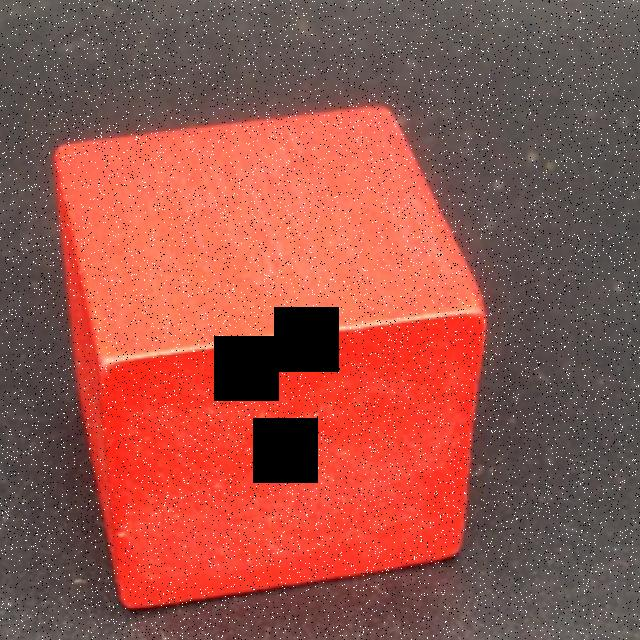red cube: (52, 106, 488, 612)
